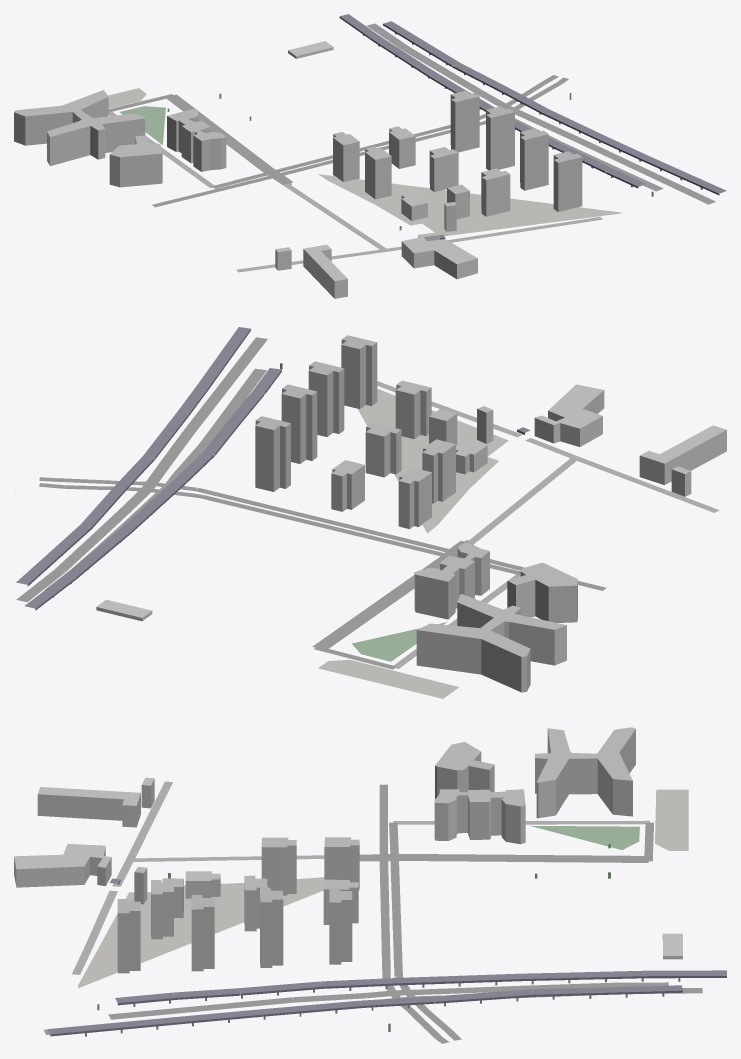
3 renders of one model, top to bottom at view 1: azimuth 30°, elevation 25°; view 2: azimuth 150°, elevation 25°; view 3: azimuth 270°, elevation 25°, orthographic. The views are drawn at different scales.
Size of the model in its own units: 552 by 61.6 by 584.
